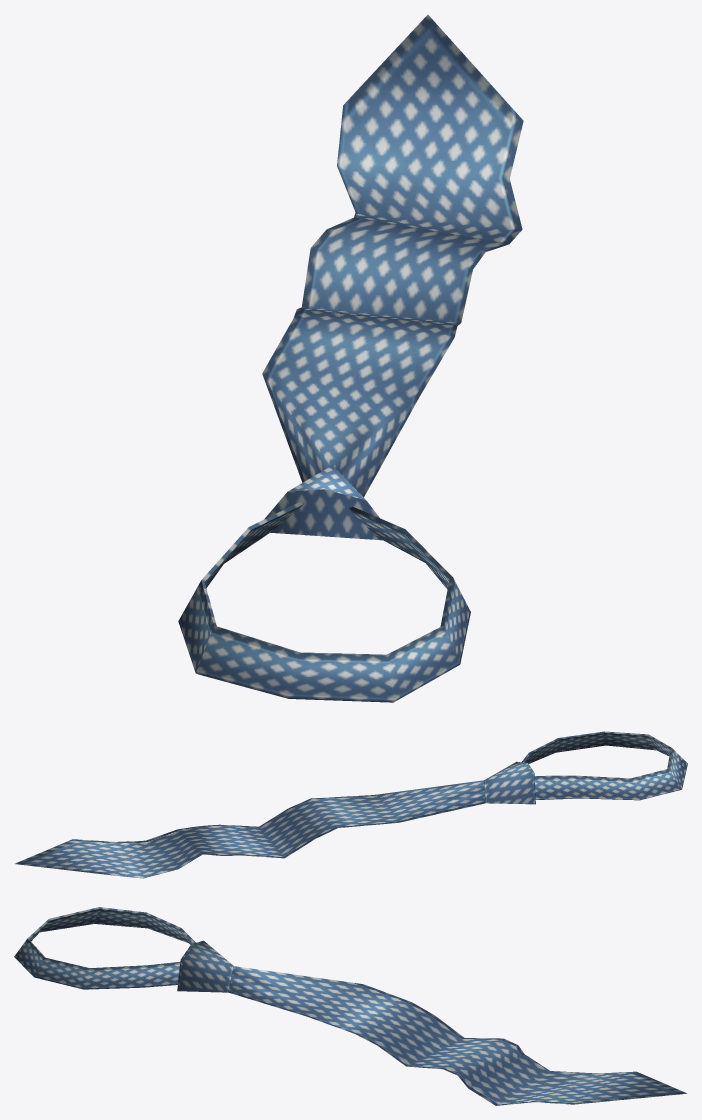
The model's file is ShenFuXiuXiShi_01_lingdai_01.FBX.
The picture shows the model from 3 angles, top to bottom: view 1: azimuth 30°, elevation 25°; view 2: azimuth 150°, elevation 25°; view 3: azimuth 270°, elevation 25°; orthographic projection. The views are drawn at different scales.
Visible parts, largest first — view 1: ShenFuXiuXiShi_01_lingdai_01; view 2: ShenFuXiuXiShi_01_lingdai_01; view 3: ShenFuXiuXiShi_01_lingdai_01.
Boxes of the visible parts, x1,y1,x2,y2 form: ShenFuXiuXiShi_01_lingdai_01: (178, 14, 523, 702); ShenFuXiuXiShi_01_lingdai_01: (14, 731, 687, 878); ShenFuXiuXiShi_01_lingdai_01: (14, 907, 687, 1105).
Bounding box in the file's own units: 217 × 18.77 × 301.
